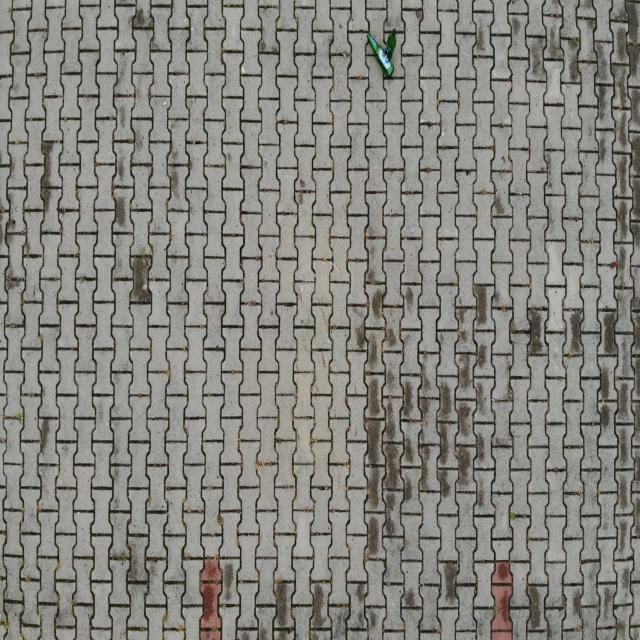rubbish: (366, 33, 393, 77), (385, 29, 396, 61)
